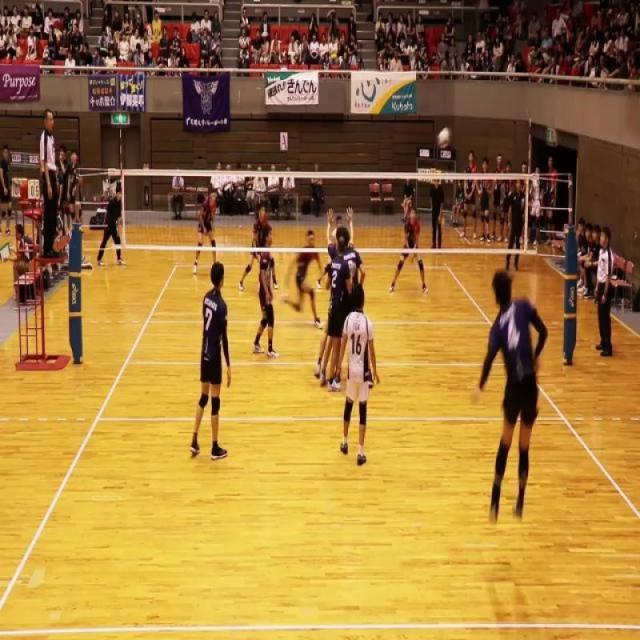volleyball: (436, 126, 452, 150)
